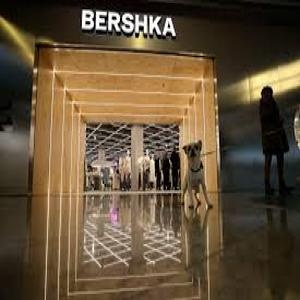bershka: (141, 3, 217, 10)
